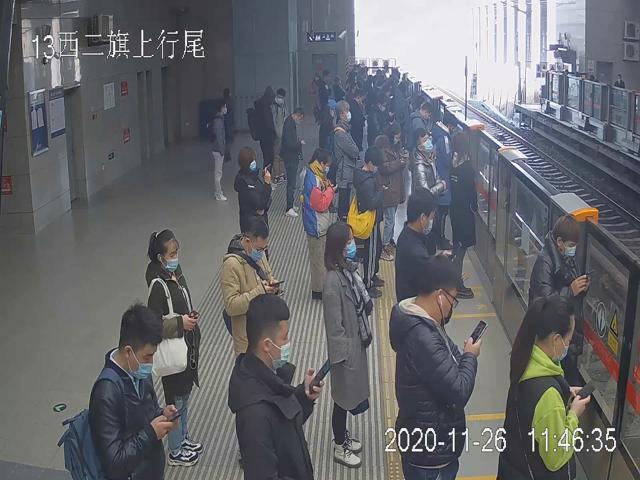person: (390, 253, 481, 480), (225, 290, 324, 480), (498, 294, 593, 480), (90, 298, 180, 480), (146, 228, 204, 467), (321, 222, 373, 470), (529, 213, 586, 379), (220, 216, 282, 360), (302, 148, 336, 301), (407, 128, 446, 258), (354, 148, 387, 299), (450, 133, 478, 299), (234, 148, 272, 256), (376, 122, 405, 262), (328, 99, 359, 223), (433, 113, 454, 249), (280, 106, 305, 217), (205, 96, 229, 203), (253, 84, 277, 189)
